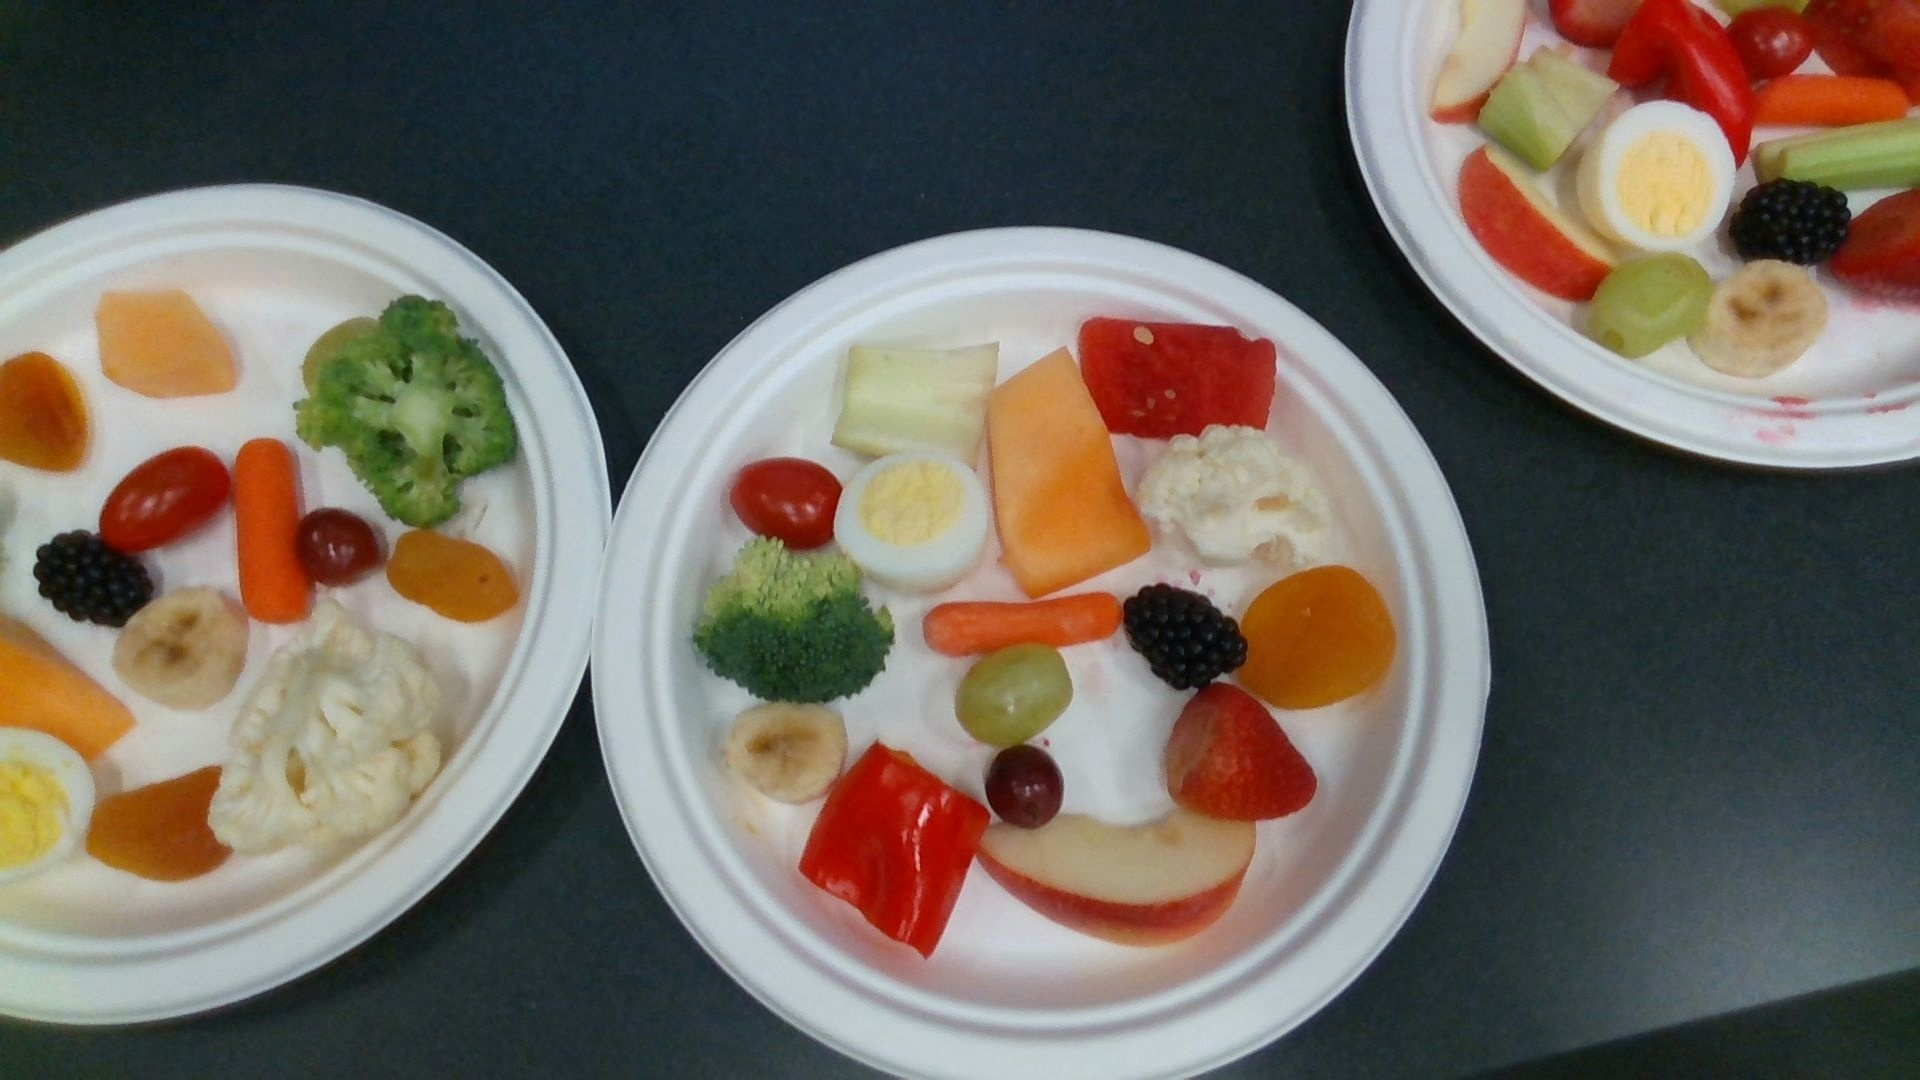apple: (984, 818, 1259, 942)
apricot: (1236, 568, 1394, 705)
banana: (729, 703, 847, 800)
bell_pepper: (802, 746, 985, 953)
blackberry: (1124, 585, 1247, 686)
broccoli: (694, 541, 894, 700)
cantalope: (990, 348, 1145, 597)
carrot: (924, 593, 1124, 651)
cauliflower: (1137, 426, 1346, 571)
celery: (835, 343, 997, 465)
cherry_tomato: (731, 460, 843, 549)
egg: (837, 454, 986, 585)
grape_green: (957, 646, 1072, 745)
grape_purple: (985, 750, 1062, 828)
melon: (1079, 318, 1276, 433)
strawberry: (1164, 686, 1319, 818)
